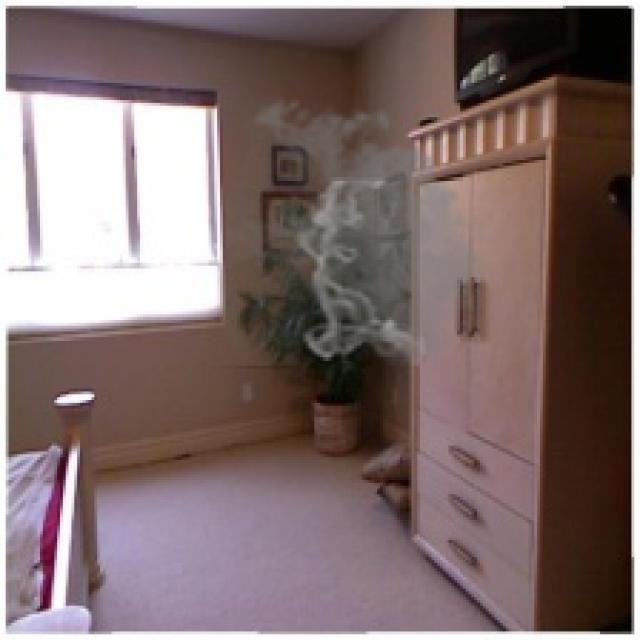Smoke: (220, 92, 500, 368)
